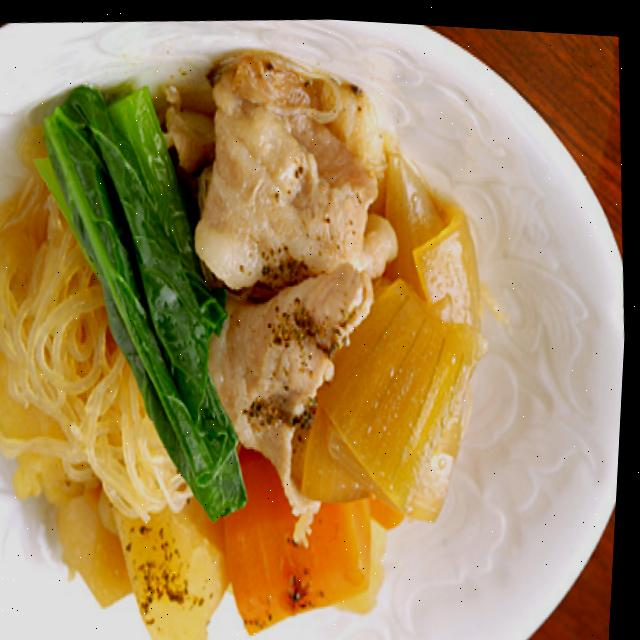牛肉菜式: (0, 17, 529, 640)
